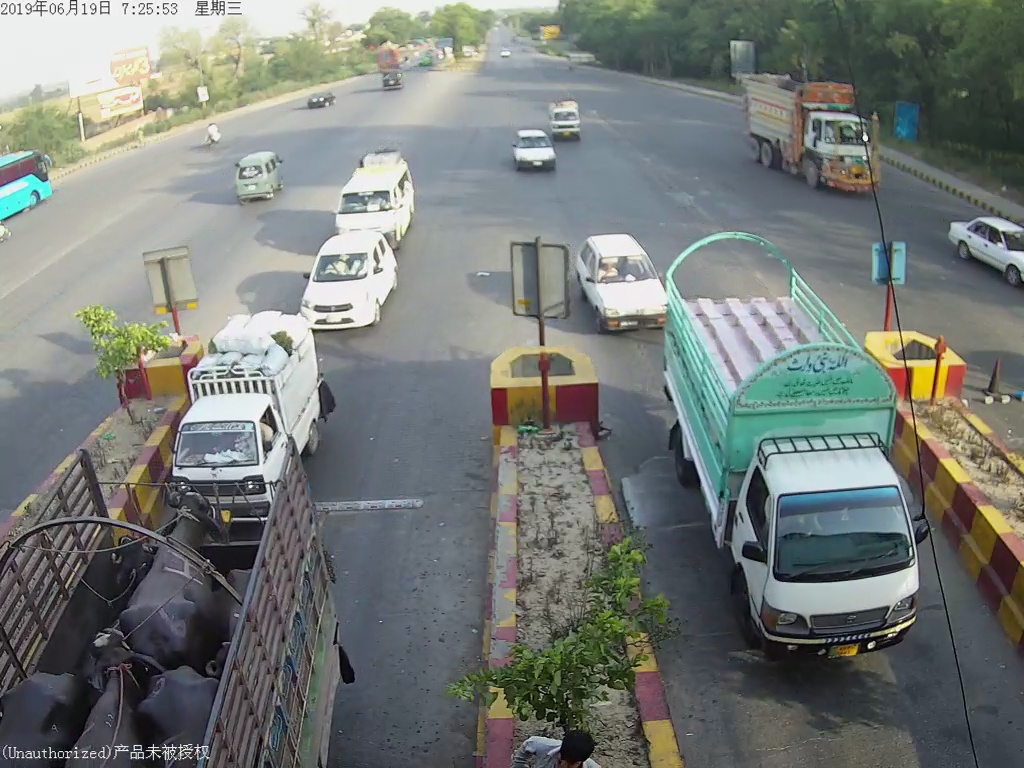Cat-1: (172, 333, 324, 488), (296, 234, 396, 328), (579, 231, 667, 336)
Cat-2: (674, 240, 938, 674)
